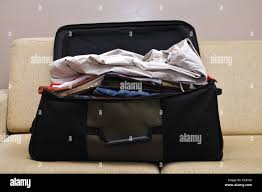suitcase: (22, 20, 225, 167)
